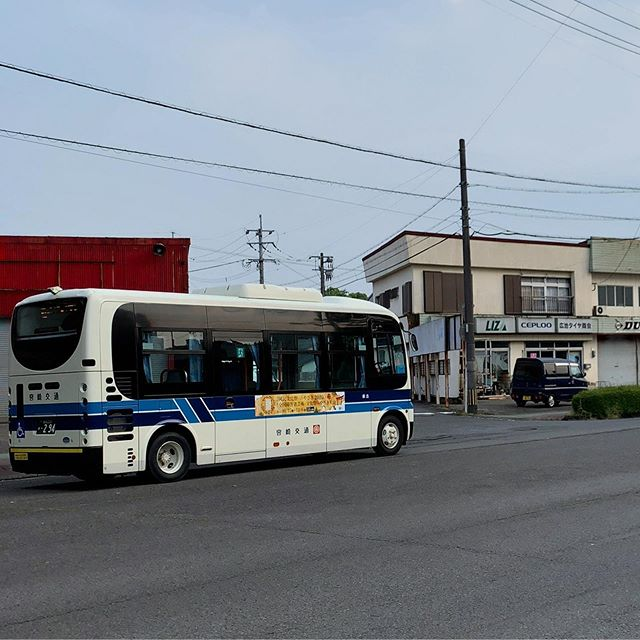building: (359, 235, 640, 404)
bus: (1, 289, 433, 484)
power pole: (226, 210, 284, 293), (302, 247, 339, 289)
sky: (1, 1, 638, 228)
street: (1, 425, 624, 640)
van: (508, 351, 590, 411)
